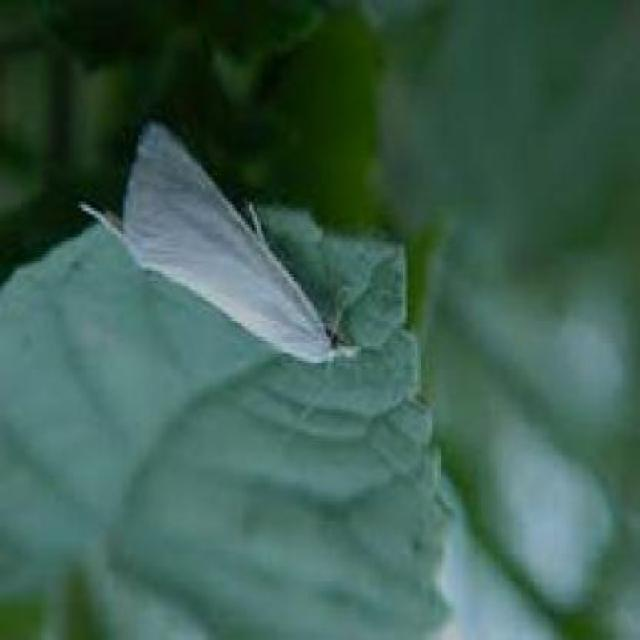stem-borer: (77, 119, 363, 368)
